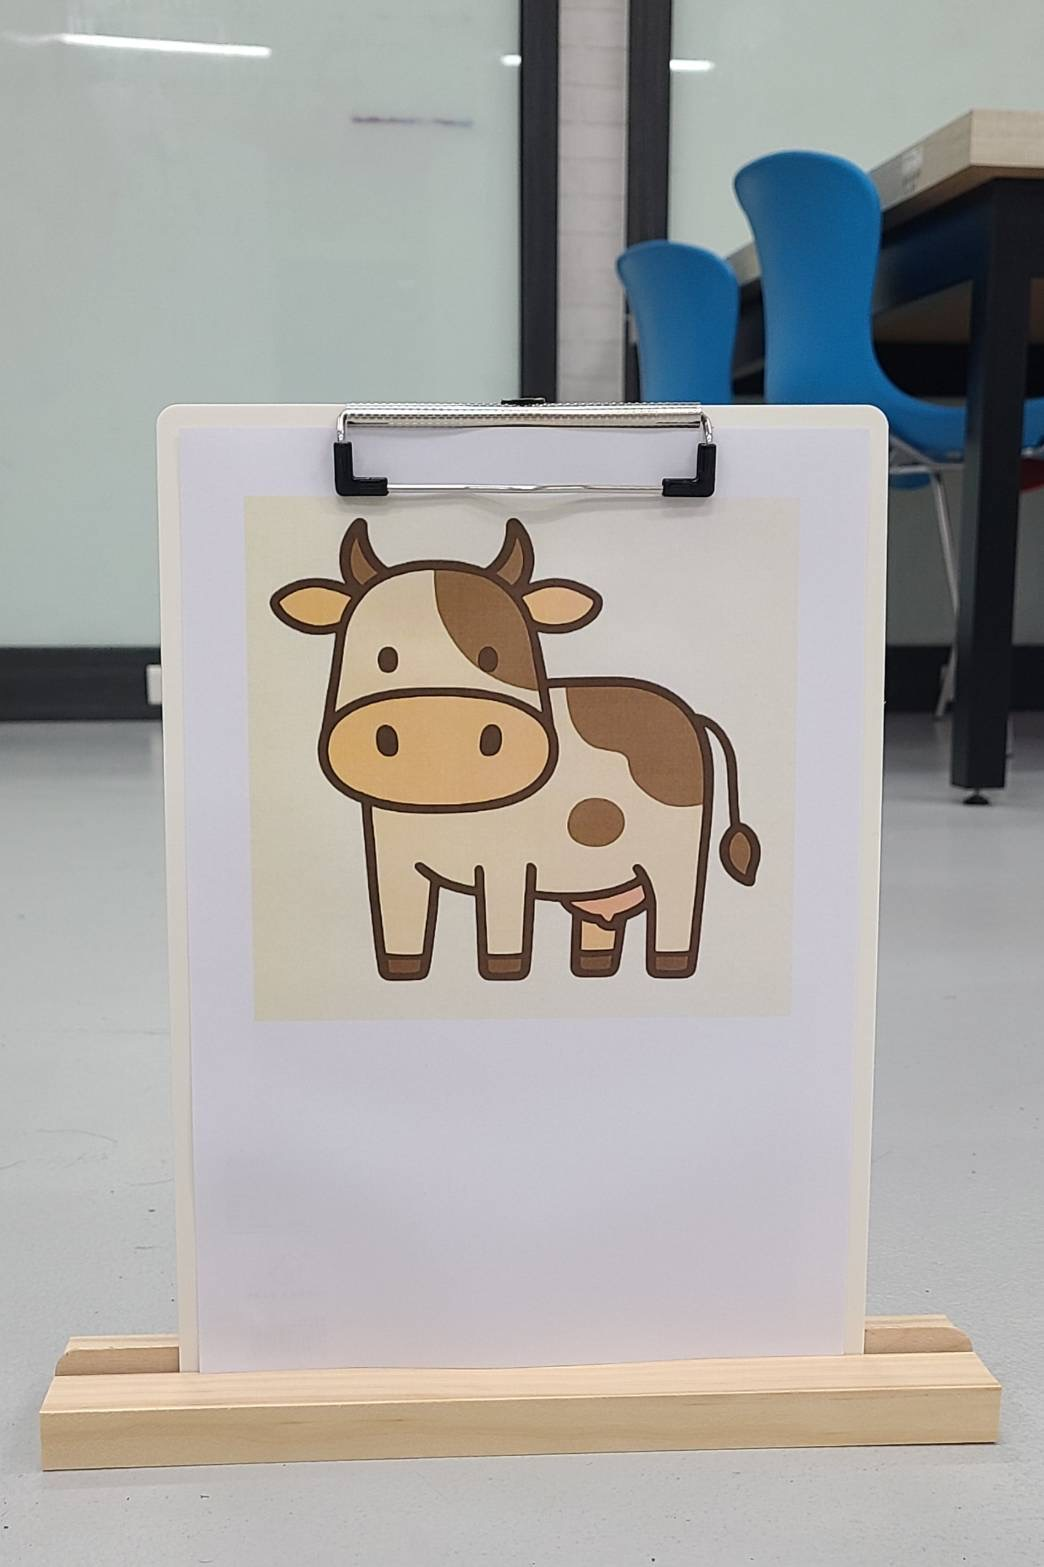cow: (269, 518, 775, 998)
